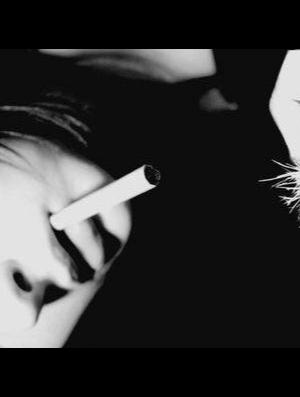Cigarette: (50, 163, 158, 229)
